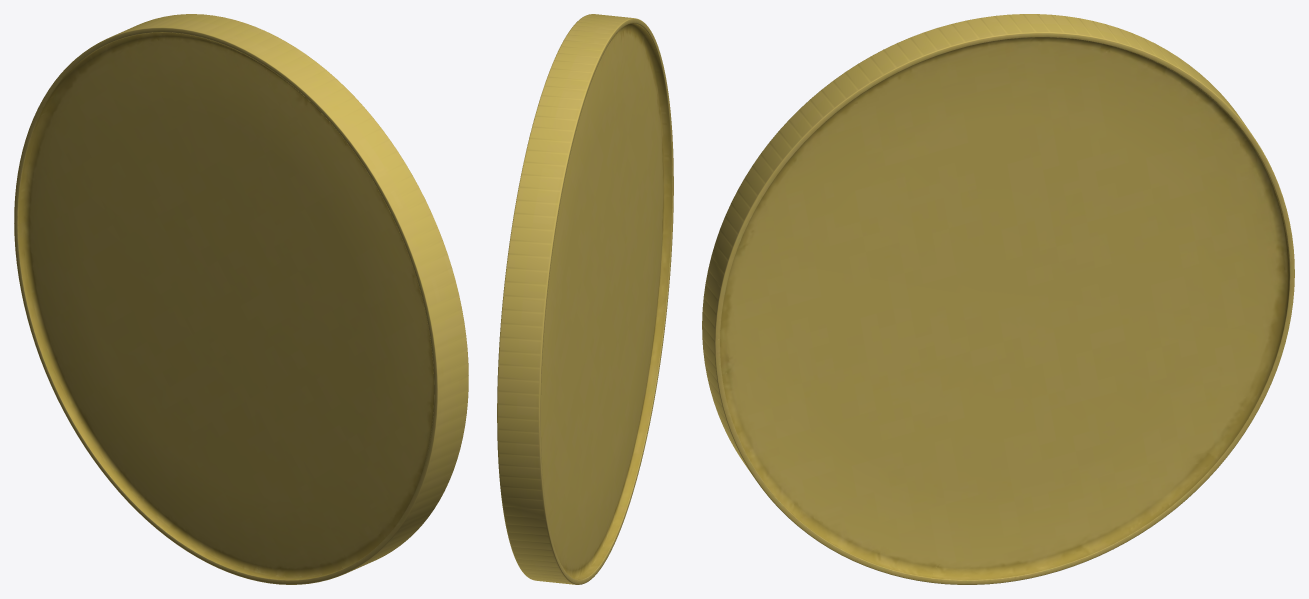
Rendered from bitcoin.glb.
3 renders of one model, left to right at view 1: azimuth 30°, elevation 25°; view 2: azimuth 150°, elevation 25°; view 3: azimuth 270°, elevation 25°, orthographic. The views are drawn at different scales.
Visible parts, largest first — view 1: Object_4.003; view 2: Object_4.003; view 3: Object_4.003.
Boxes of the visible parts, x1=… form: Object_4.003: x1=14, y1=14, x2=468, y2=584; Object_4.003: x1=497, y1=14, x2=673, y2=584; Object_4.003: x1=702, y1=14, x2=1294, y2=584.
Bounding box in the file's own units: 0.0863 × 0.2428 × 0.238.
Materials: 1 (1 with a texture image).
